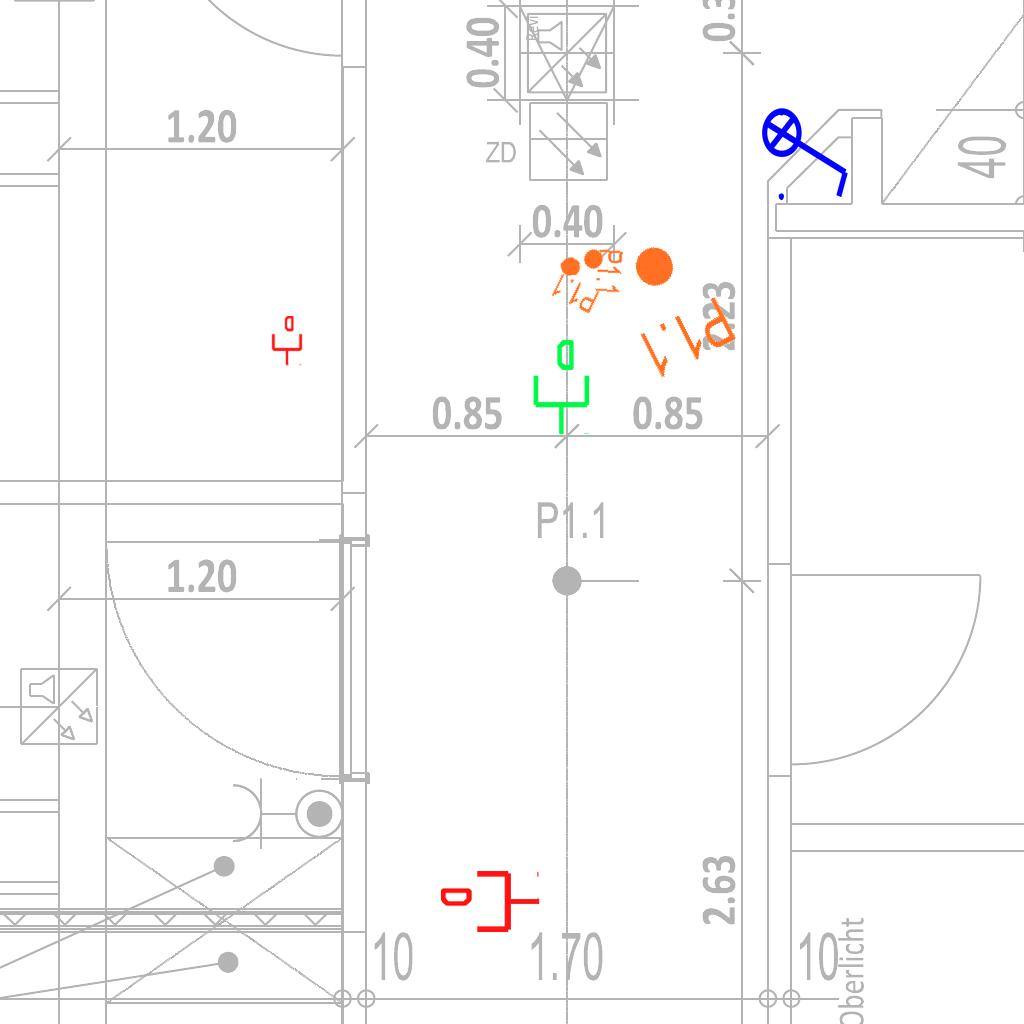Ausschalter_beleuchtet: (760, 94, 856, 206)
Datenanschluss_einfach: (441, 867, 541, 936), (525, 337, 594, 437), (270, 316, 304, 366)
Downlight_LED_Einbauleuchten_Flur: (600, 226, 741, 384), (548, 238, 618, 316), (557, 244, 625, 296)
